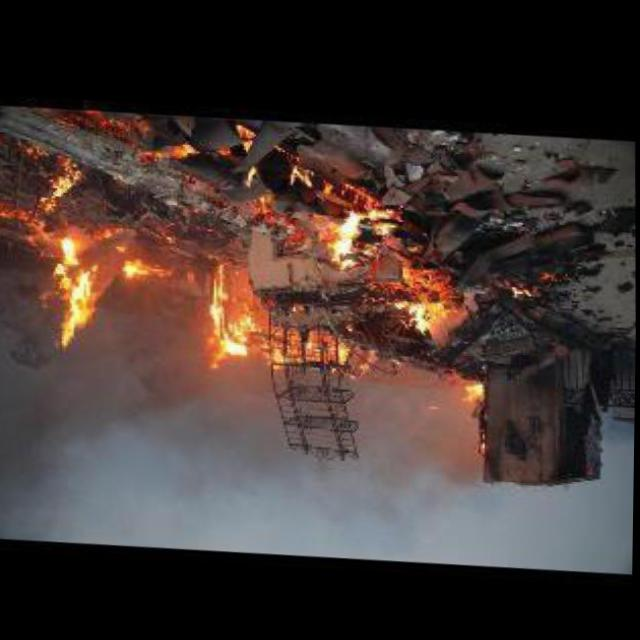Fire: (303, 186, 468, 345), (186, 245, 345, 403), (42, 237, 155, 364), (288, 145, 378, 202), (32, 149, 93, 224), (136, 124, 202, 169), (240, 159, 285, 219), (454, 365, 500, 410), (509, 270, 542, 301)
